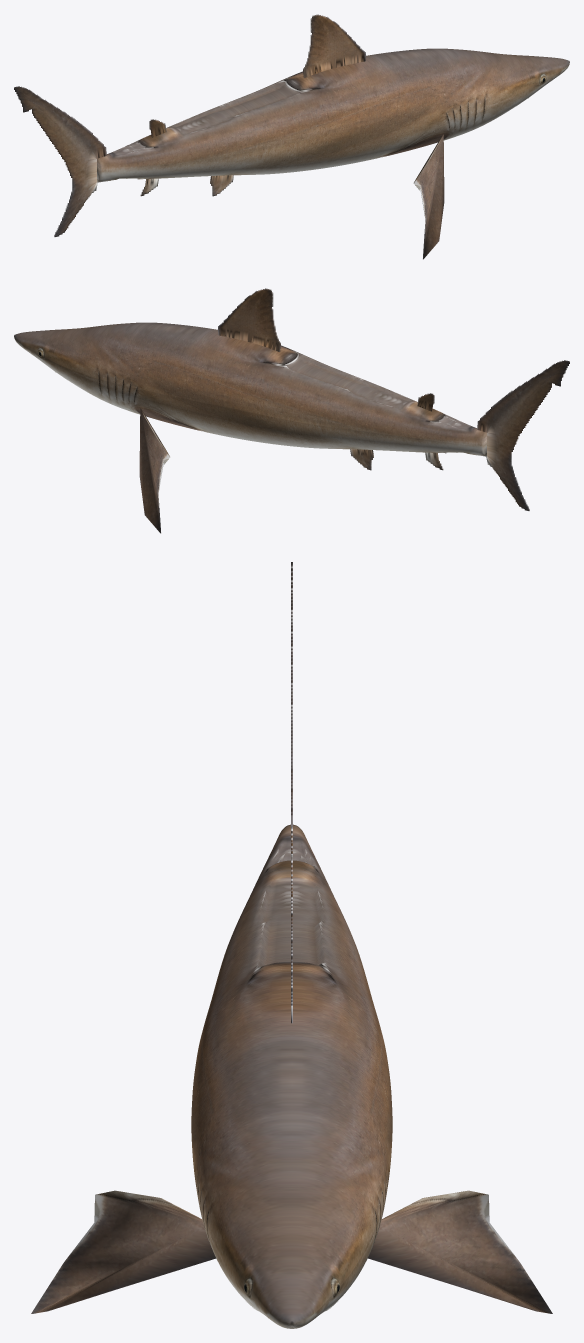
Rendered from bronze_whaler.glb.
3 renders of one model, top to bottom at view 1: azimuth 30°, elevation 25°; view 2: azimuth 150°, elevation 25°; view 3: azimuth 270°, elevation 25°, orthographic. The views are drawn at different scales.
Parts seen in each view (by area): view 1: bronze_whaler_realistic; view 2: bronze_whaler_realistic; view 3: bronze_whaler_realistic.
Boxes of the visible parts, x1,y1,x2,y2 form: bronze_whaler_realistic: [14, 14, 569, 259]; bronze_whaler_realistic: [14, 288, 569, 533]; bronze_whaler_realistic: [31, 562, 552, 1328].
Bounding box in the file's own units: 1 × 0.3584 × 0.4073.
Materials: 3 (3 with a texture image).
